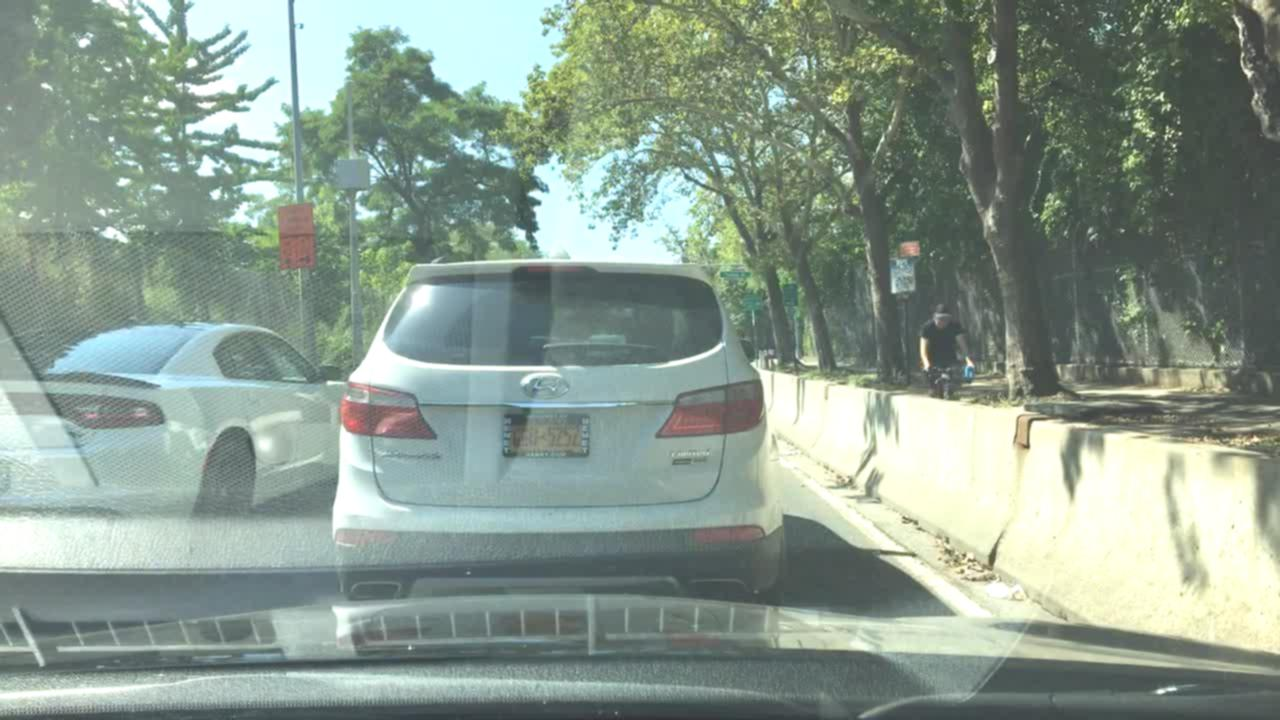Hyundai: (517, 371, 572, 404)
